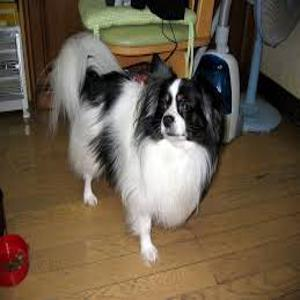yell: (47, 32, 226, 266)
